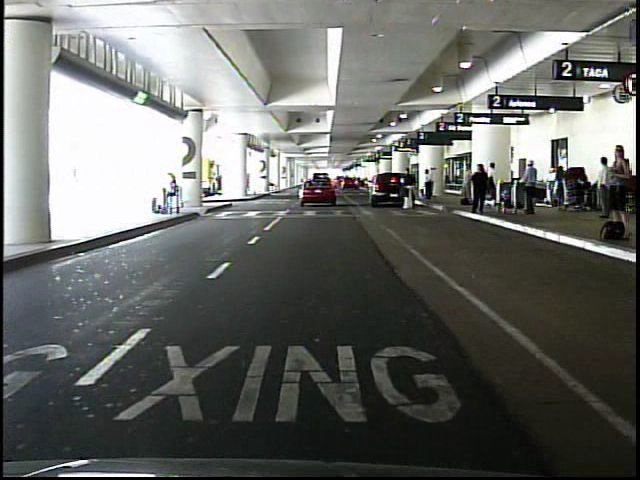person: (606, 145, 631, 222), (595, 157, 612, 218), (522, 159, 540, 216), (469, 160, 488, 213), (163, 172, 183, 218), (542, 167, 558, 205), (403, 168, 415, 213), (485, 161, 496, 203), (424, 168, 435, 202)
